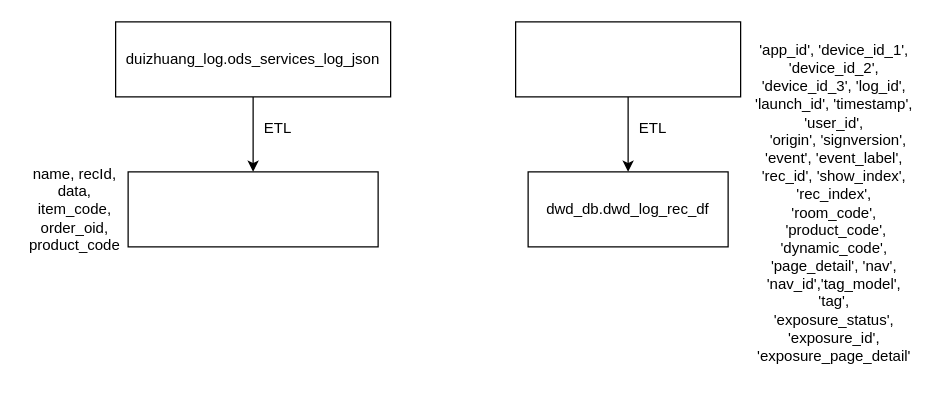
Image size: 936x394. Some labels were removed from this diagram. The shapes that lost their labels are listed below. From the top down, each one's centre as x and y in pixels, then its label:
At pixel 627 59: "duizhuang_log.ods_old_json".
At pixel 252 209: "dwd_db.dwd_service_log_rec_df".
